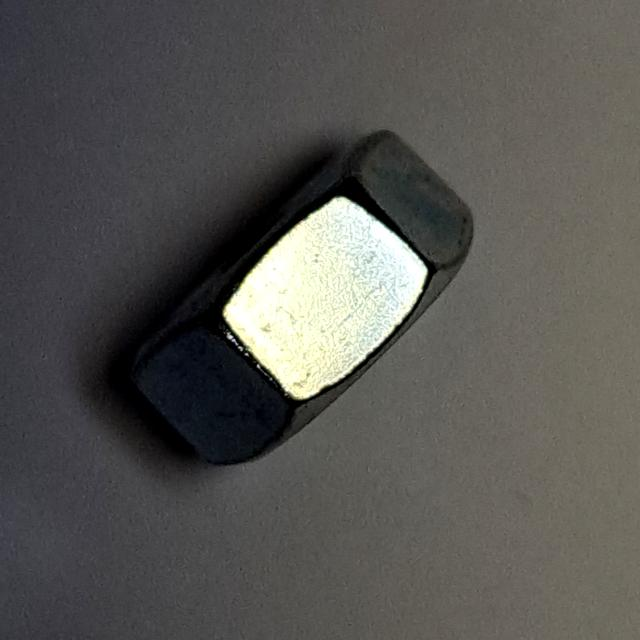Side_Excellent: (109, 120, 496, 482)
